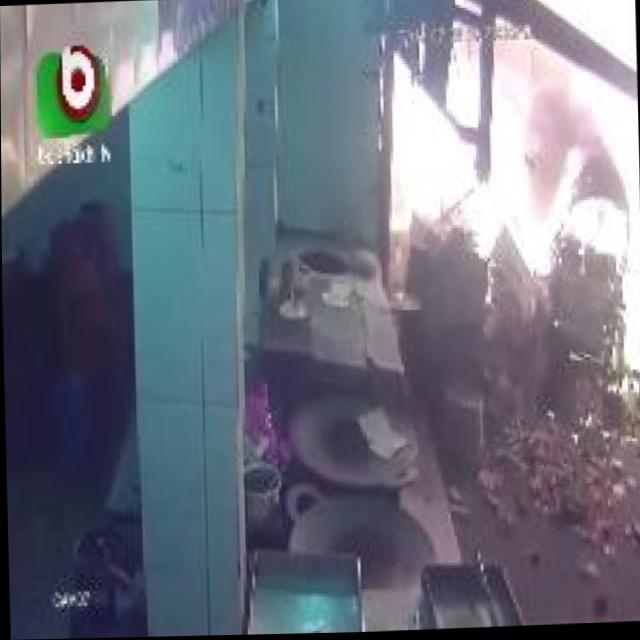fire: (384, 40, 570, 301), (525, 0, 640, 418)
